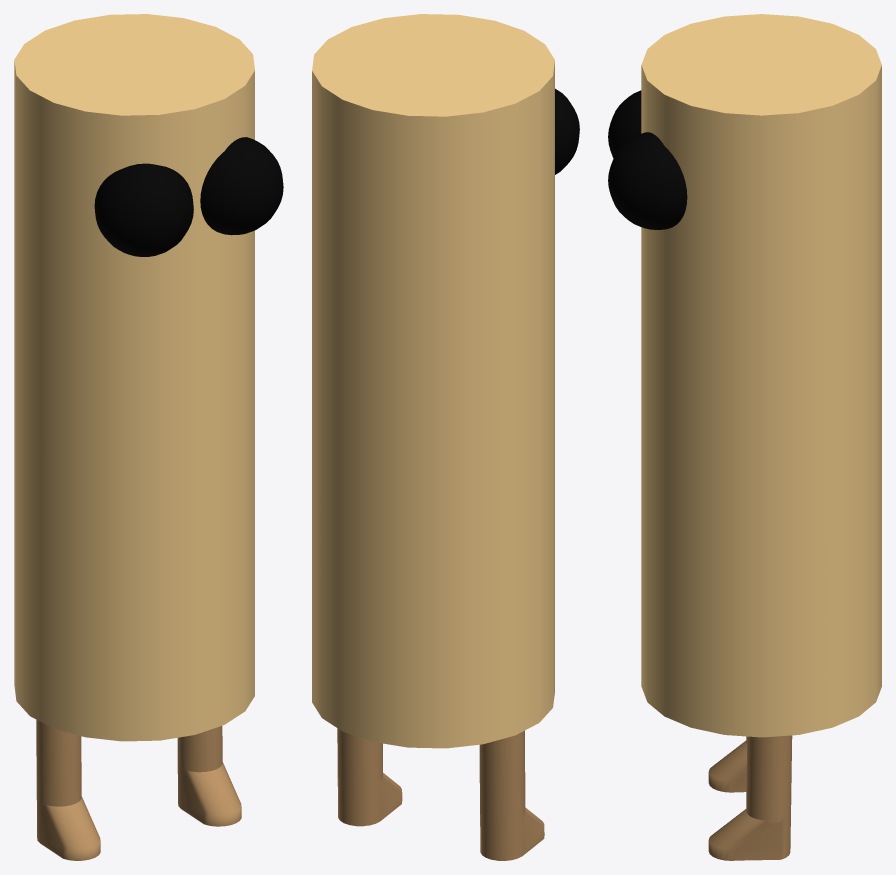
File: UnityModel_StickMonster.fbx
The picture shows the model from 3 angles, left to right: view 1: azimuth 30°, elevation 25°; view 2: azimuth 150°, elevation 25°; view 3: azimuth 270°, elevation 25°; orthographic projection.
Visible parts, largest first — view 1: pCylinder1, pSphere1, pasted__pasted__pasted__pCylinder3, pasted__pSphere1, pasted__pasted__pasted__pasted__pCylinder3; view 2: pCylinder1, pasted__pasted__pasted__pCylinder3, pasted__pasted__pasted__pasted__pCylinder3, pSphere1; view 3: pCylinder1, pasted__pasted__pasted__pasted__pCylinder3, pasted__pSphere1, pasted__pasted__pasted__pCylinder3, pSphere1.
Part boxes in pixels (left/top/right/bottom): pCylinder1: left=14, top=14, right=254, bottom=741; pSphere1: left=94, top=163, right=193, bottom=256; pasted__pasted__pasted__pCylinder3: left=36, top=719, right=100, bottom=860; pasted__pSphere1: left=200, top=137, right=283, bottom=235; pasted__pasted__pasted__pasted__pCylinder3: left=177, top=726, right=241, bottom=826; pCylinder1: left=312, top=14, right=554, bottom=748; pasted__pasted__pasted__pCylinder3: left=479, top=730, right=544, bottom=860; pasted__pasted__pasted__pasted__pCylinder3: left=337, top=728, right=402, bottom=826; pSphere1: left=555, top=88, right=579, bottom=174; pCylinder1: left=641, top=14, right=881, bottom=737; pasted__pasted__pasted__pasted__pCylinder3: left=708, top=735, right=792, bottom=860; pasted__pSphere1: left=608, top=132, right=687, bottom=229; pasted__pasted__pasted__pCylinder3: left=708, top=736, right=747, bottom=792; pSphere1: left=608, top=90, right=641, bottom=158.
Bounding box in the file's own units: 0.6841 × 2.37 × 0.7793.
